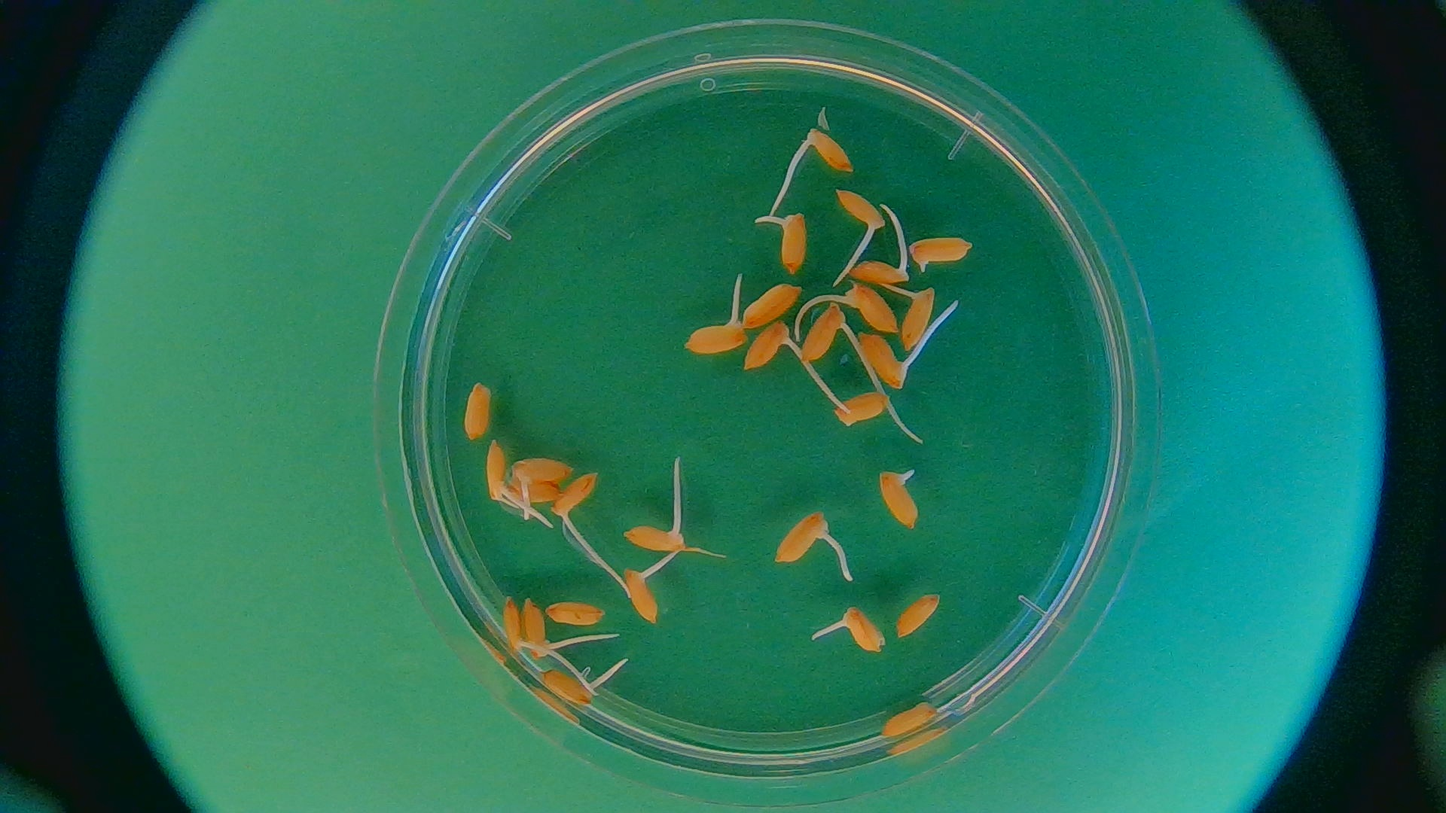no: (740, 283, 802, 332), (880, 701, 941, 741), (910, 238, 974, 273), (893, 593, 940, 639), (834, 391, 889, 429), (502, 482, 566, 509), (463, 383, 490, 440), (545, 602, 604, 625)
yes: (802, 303, 854, 362), (773, 510, 827, 565), (859, 332, 911, 388), (746, 321, 796, 378), (898, 286, 939, 353), (846, 282, 896, 334), (687, 312, 747, 355), (876, 468, 919, 528), (541, 665, 595, 711), (804, 129, 853, 177), (837, 606, 883, 653), (551, 473, 600, 517), (773, 212, 807, 275), (511, 458, 575, 489), (502, 595, 532, 657), (851, 257, 914, 285), (622, 568, 654, 623), (624, 521, 683, 550), (843, 188, 883, 230), (524, 588, 546, 655), (487, 440, 508, 501)
